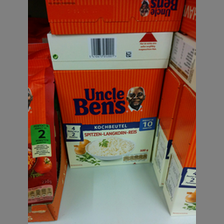rice: (53, 69, 166, 168)
